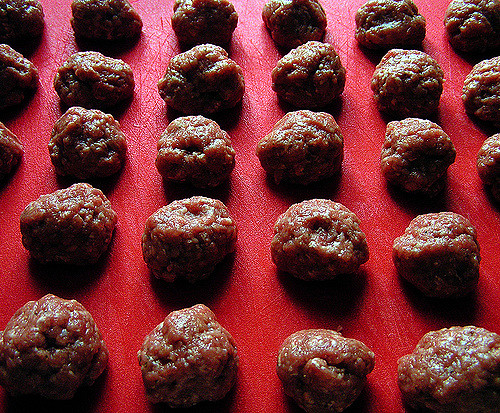meatballs: (29, 32, 380, 303), (266, 195, 377, 279)
